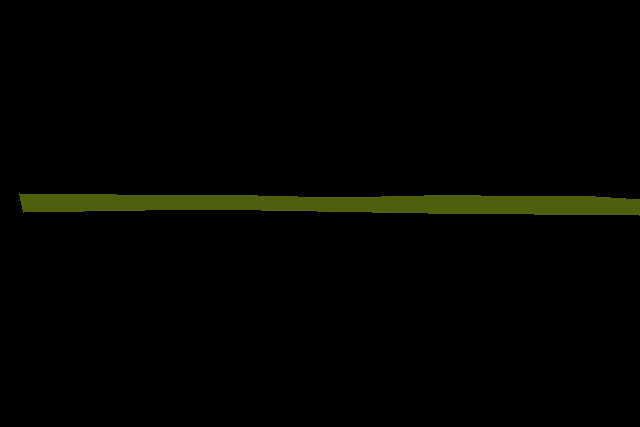Train: (19, 193, 640, 215)
